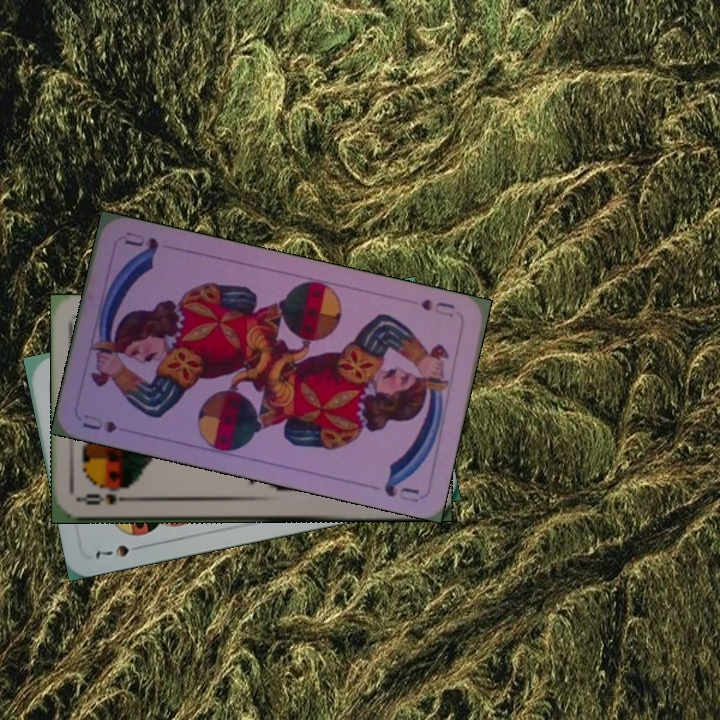S7: (91, 540, 148, 562)
SO: (76, 489, 135, 507)
SU: (78, 410, 120, 435), (416, 295, 457, 320)
